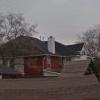Chimney: (42, 30, 56, 56)
